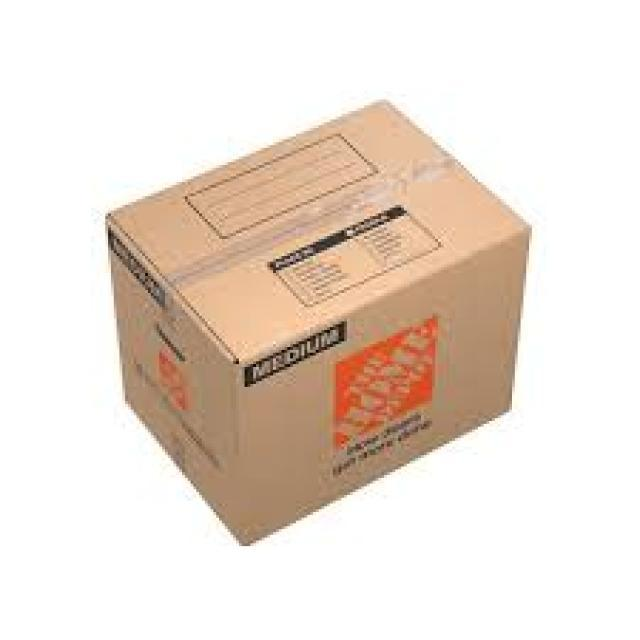box: (102, 98, 531, 547)
